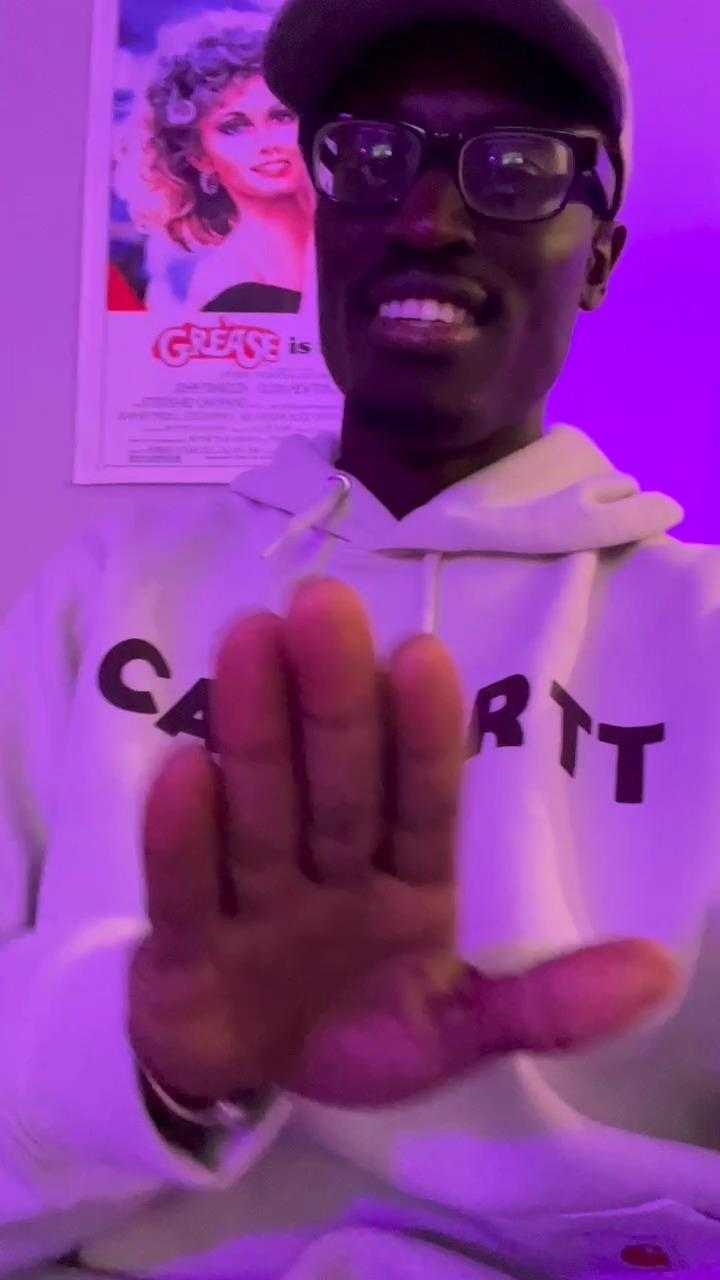Paper: (132, 574, 669, 1111)
